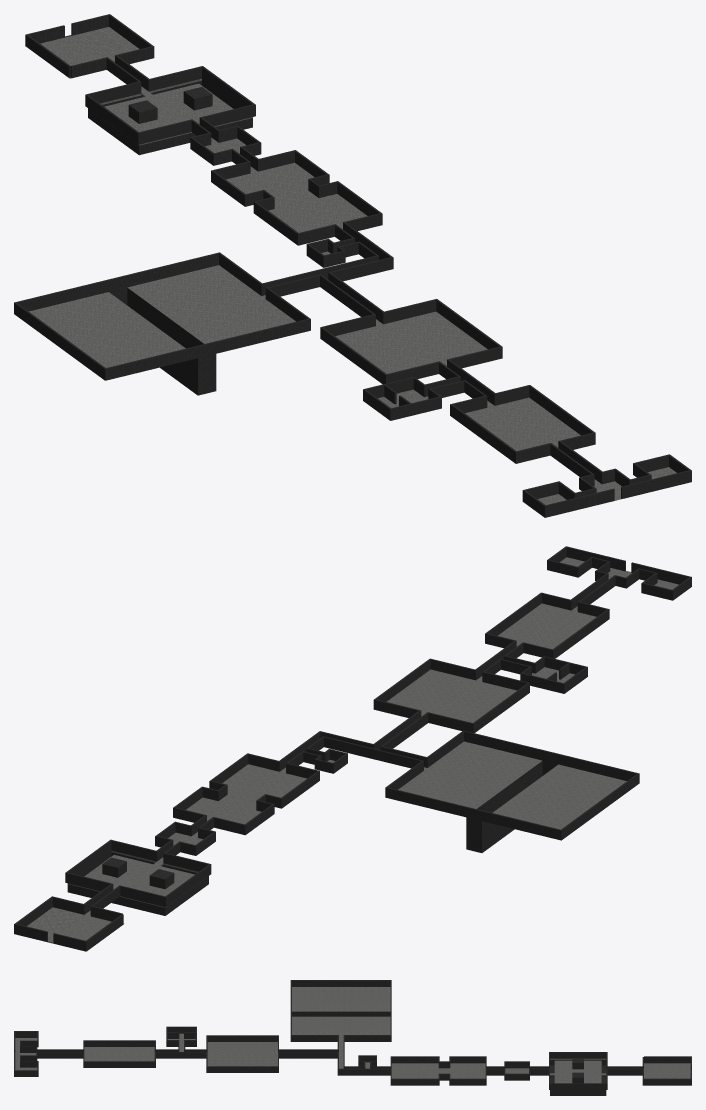
Rendered from dungjoin.fbx.
3 views of the same model, one above another, from view 1: azimuth 30°, elevation 25°; view 2: azimuth 150°, elevation 25°; view 3: azimuth 270°, elevation 25° (orthographic). The views are drawn at different scales.
Parts seen in each view (by area): view 1: Walls, Floor; view 2: Walls, Floor; view 3: Walls, Floor.
Boxes of the visible parts, box(x1,y1,x2,y2) form: Walls: box(14, 14, 691, 517); Floor: box(29, 27, 676, 504); Walls: box(14, 546, 691, 951); Floor: box(27, 557, 678, 942); Walls: box(14, 980, 691, 1095); Floor: box(15, 987, 690, 1083).
Bounding box in the file's own units: 20900 × 2600 × 57800.
2 materials, 2 textured.
